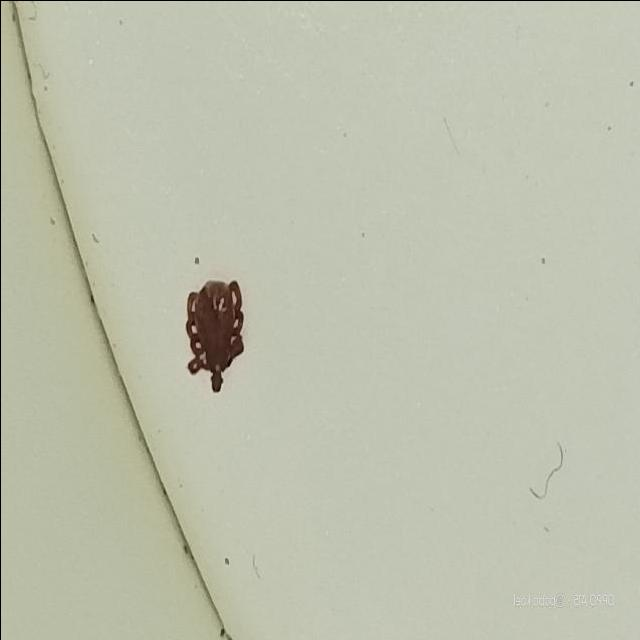Rhipicephalus Sanguineus-M: (182, 278, 245, 394)
